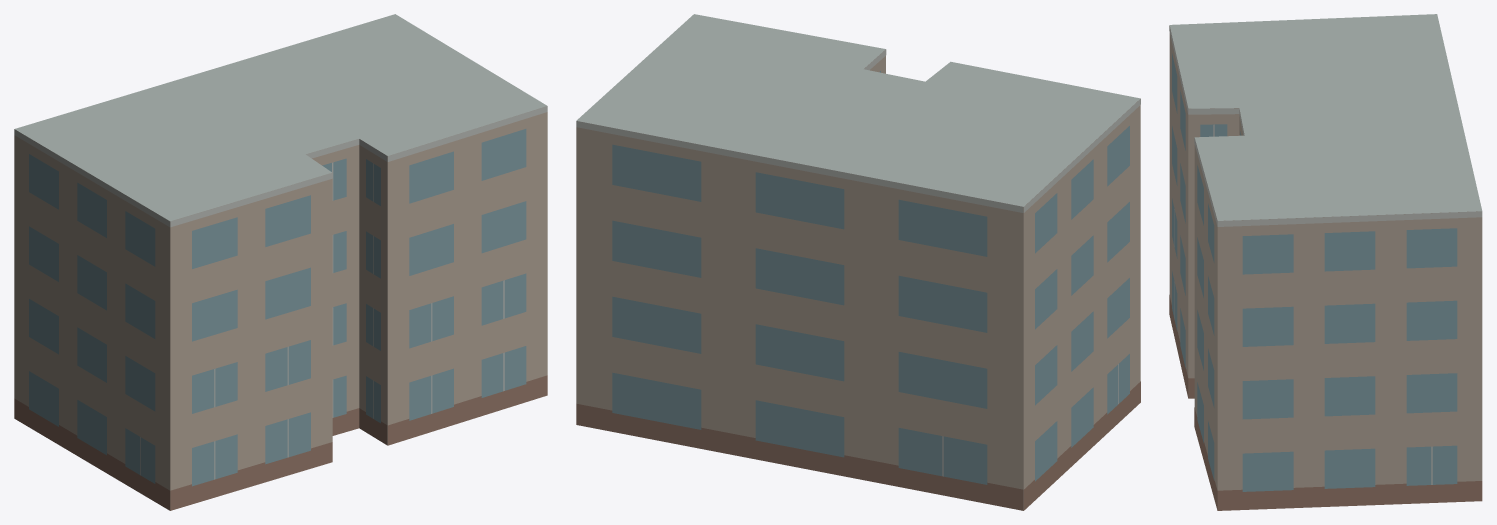
The model's file is survey-upis-32755190.glb.
3 views of the same model, side by side, from view 1: azimuth 30°, elevation 25°; view 2: azimuth 150°, elevation 25°; view 3: azimuth 270°, elevation 25° (orthographic). The views are drawn at different scales.
Parts seen in each view (by area): view 1: survey-upis-32755190.tmp; view 2: survey-upis-32755190.tmp; view 3: survey-upis-32755190.tmp.
Boxes of the visible parts, x1,y1,x2,y2 form: survey-upis-32755190.tmp: [14, 14, 547, 510]; survey-upis-32755190.tmp: [576, 14, 1140, 510]; survey-upis-32755190.tmp: [1169, 14, 1482, 510].
Bounding box in the file's own units: 17.93 × 11.7 × 11.45.
